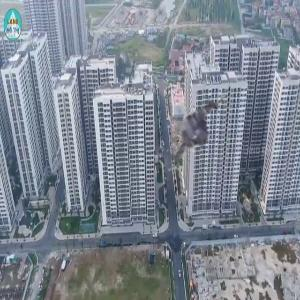drone: (142, 75, 245, 178)
